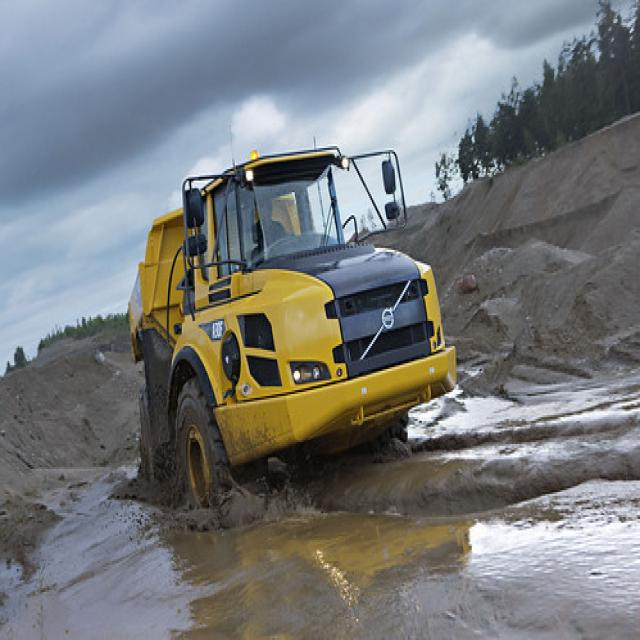dump_truck: (124, 136, 457, 504)
